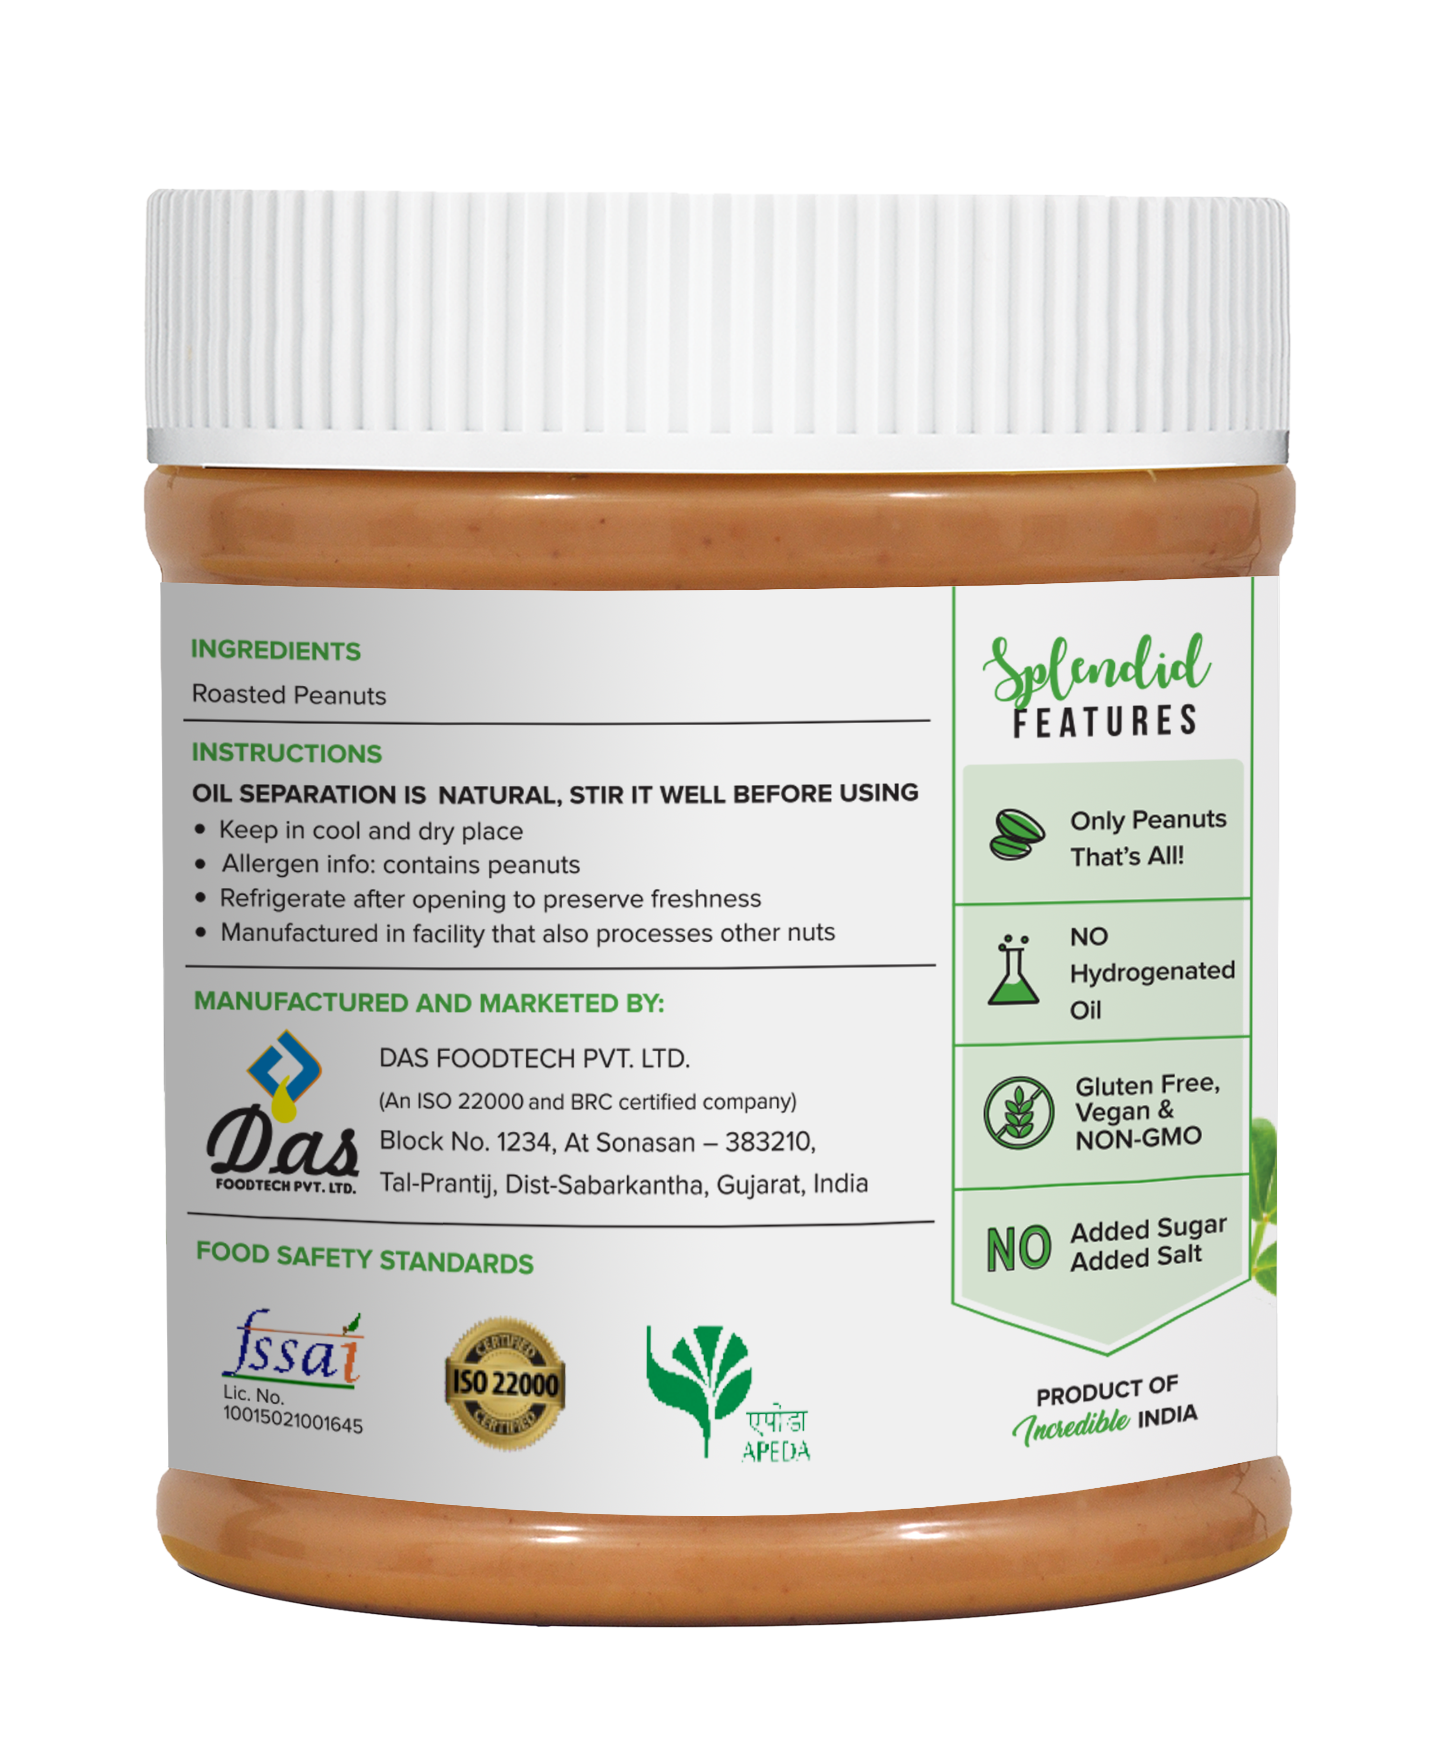fssai: (219, 1307, 363, 1390)
